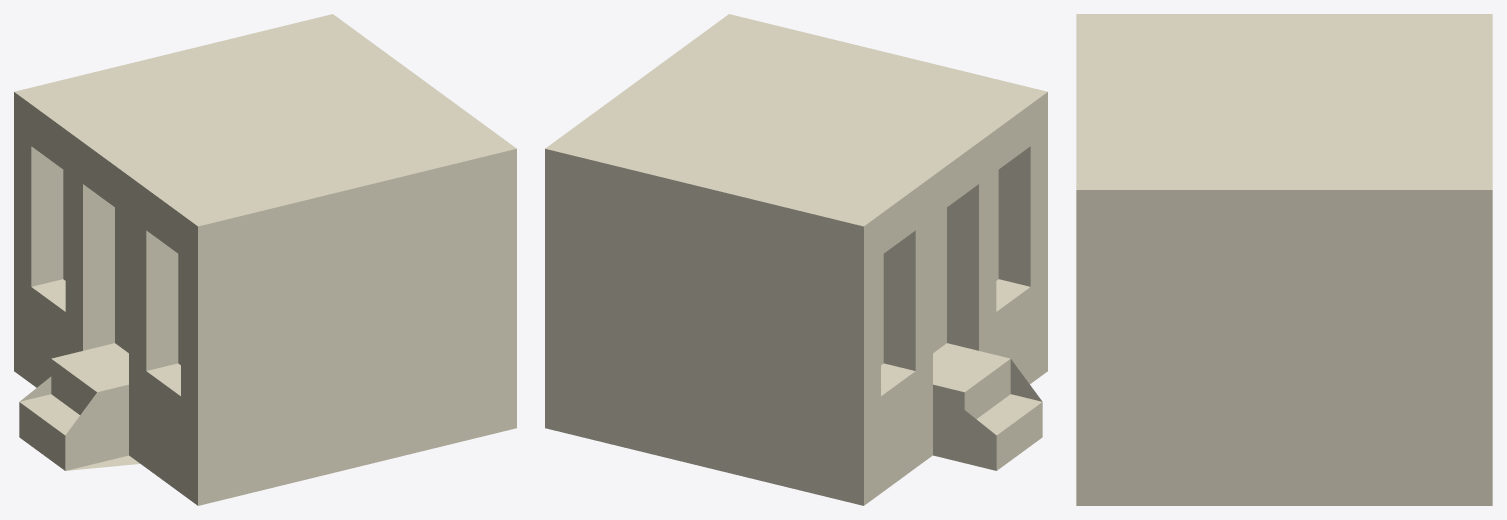
The model's file is modularbuildings_024.glb.
3 views of the same model, side by side, from view 1: azimuth 30°, elevation 25°; view 2: azimuth 150°, elevation 25°; view 3: azimuth 270°, elevation 25° (orthographic). The views are drawn at different scales.
Visible parts, largest first — view 1: Mesh1 Group1 Model; view 2: Mesh1 Group1 Model; view 3: Mesh1 Group1 Model.
Part boxes in pixels (x1,y1,x2,y2): Mesh1 Group1 Model: (14, 14, 516, 505); Mesh1 Group1 Model: (545, 14, 1047, 505); Mesh1 Group1 Model: (1076, 14, 1492, 505).
Bounding box in the file's own units: 1.2 × 0.8375 × 1.
